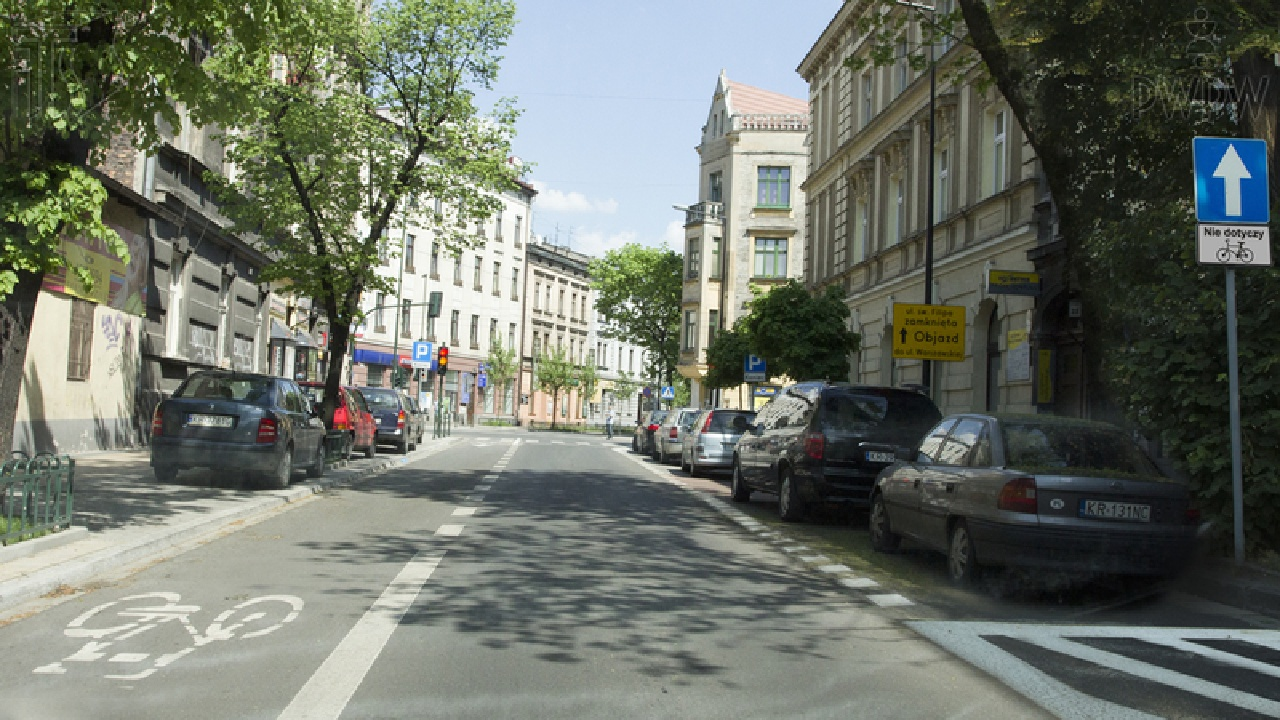D18: (745, 351, 767, 372), (413, 342, 430, 362)
D3: (1191, 135, 1273, 226)
